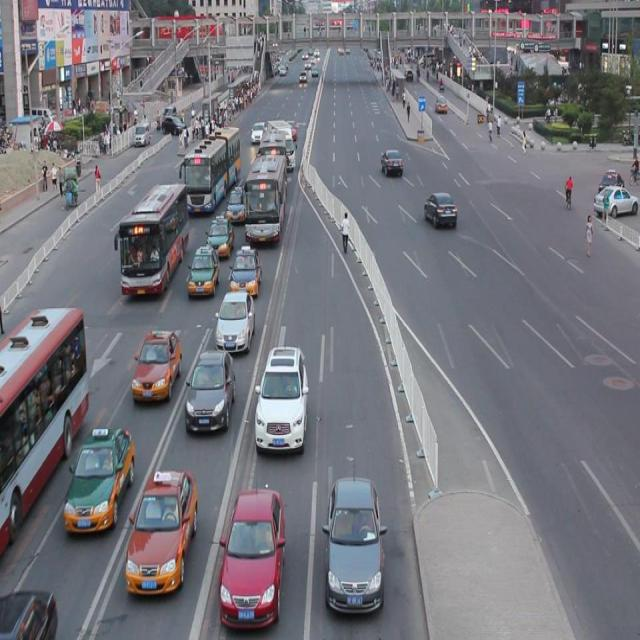bus: (268, 122, 295, 172)
car: (124, 467, 198, 594), (219, 486, 284, 627), (324, 476, 386, 611), (66, 425, 133, 528), (254, 345, 308, 451), (185, 347, 234, 428), (132, 328, 182, 399), (1, 589, 59, 640), (215, 290, 255, 348), (187, 244, 220, 295), (590, 184, 640, 217), (228, 244, 260, 294), (206, 214, 234, 257), (424, 191, 456, 227), (226, 185, 246, 223), (381, 150, 401, 174), (250, 121, 265, 143), (286, 122, 297, 140)
van: (1, 306, 89, 545), (115, 184, 187, 295), (180, 126, 240, 214), (243, 154, 287, 241), (259, 131, 288, 185)
